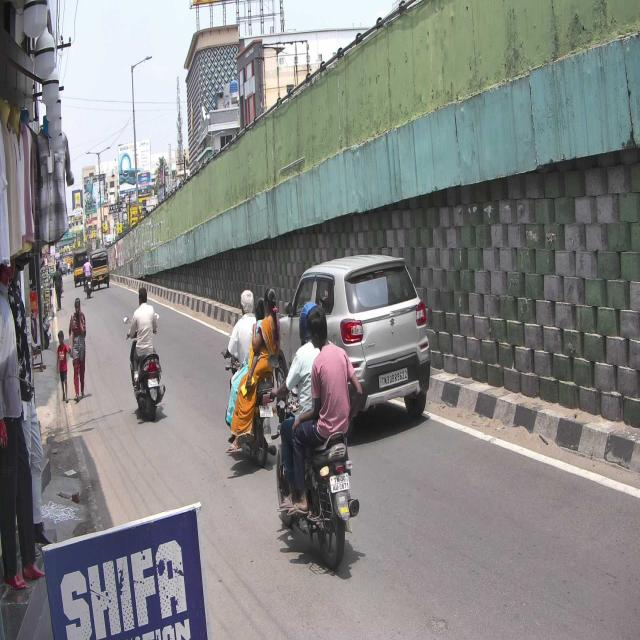double_rider: (286, 301, 362, 571)
single_rider: (124, 286, 166, 422)
triple_rider: (225, 287, 282, 463)
